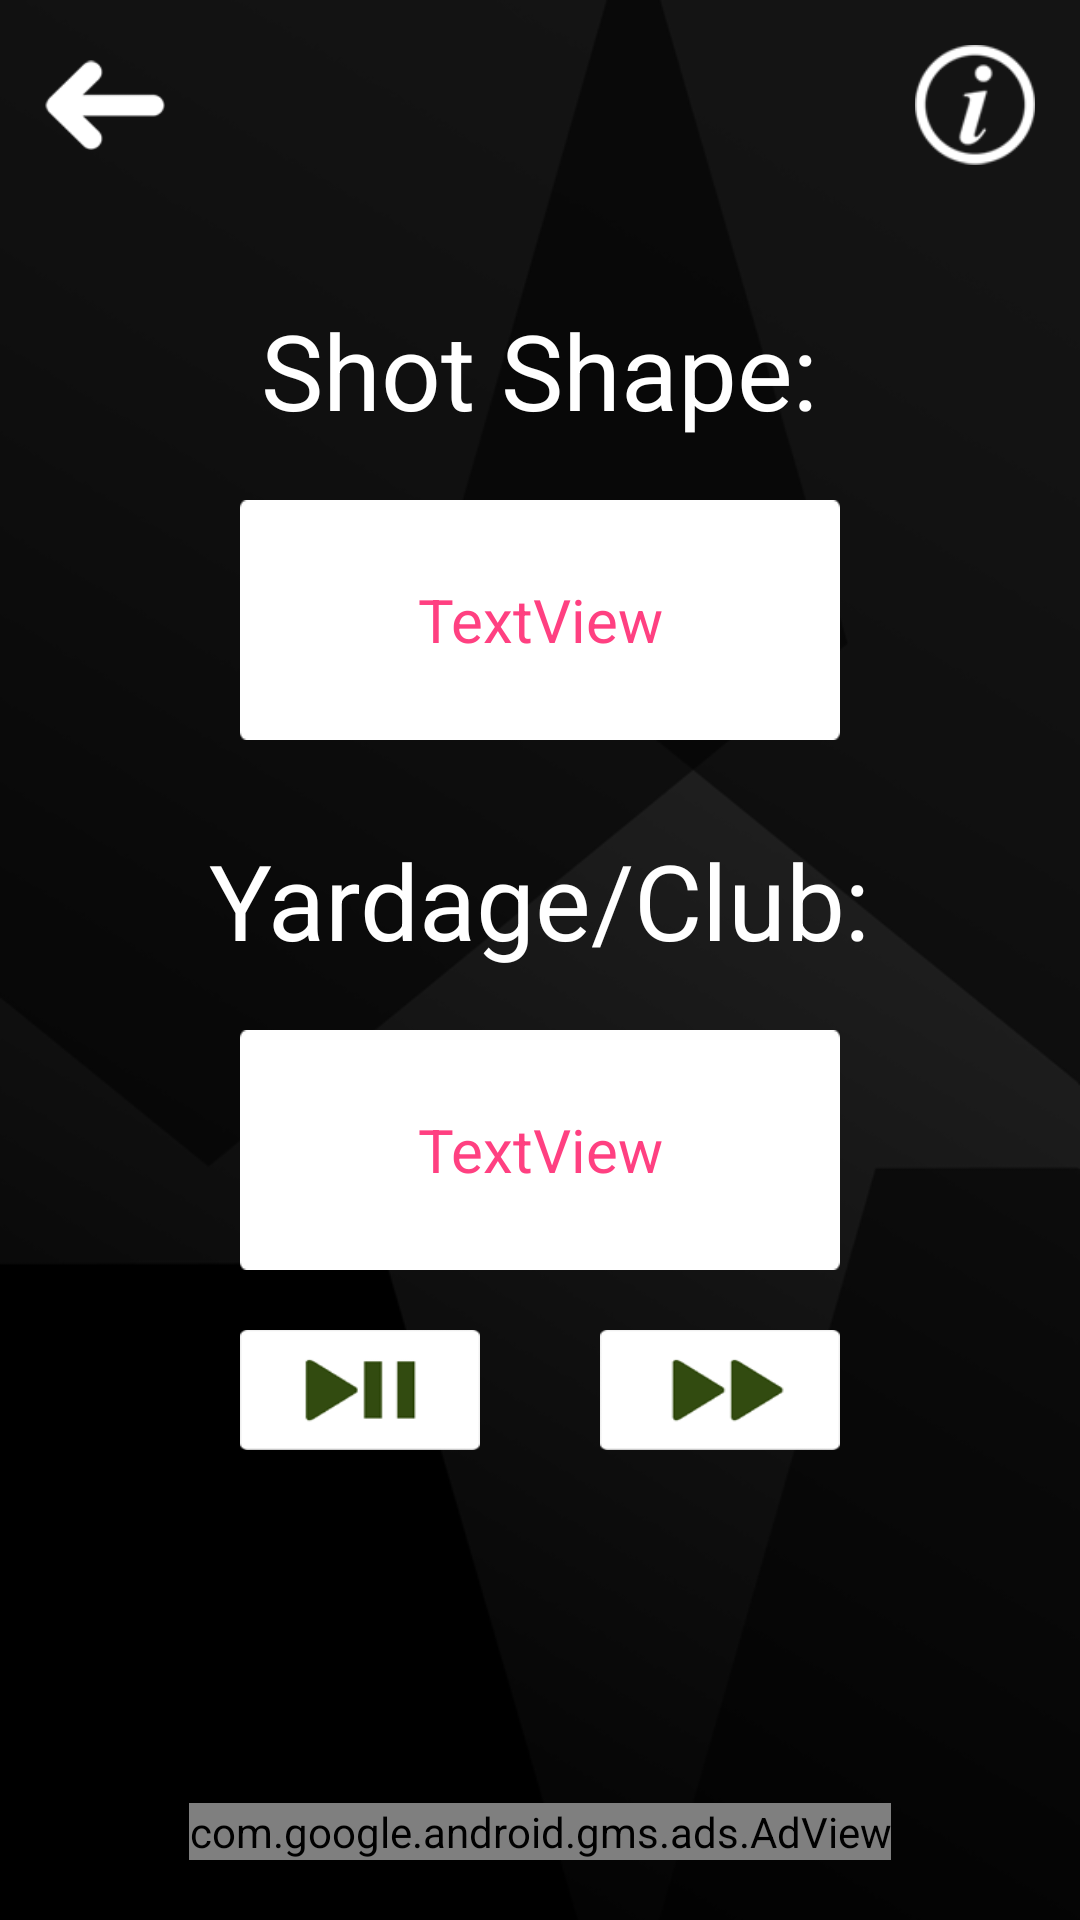

Named icons in this screenshot (1080*1920) and their bounding boxes, bbox=[x1, y1, x2, y2]:
back: bbox=[45, 60, 165, 150]
info: bbox=[915, 45, 1035, 165]
playpause: bbox=[240, 1330, 480, 1450]
skip: bbox=[600, 1330, 840, 1450]
